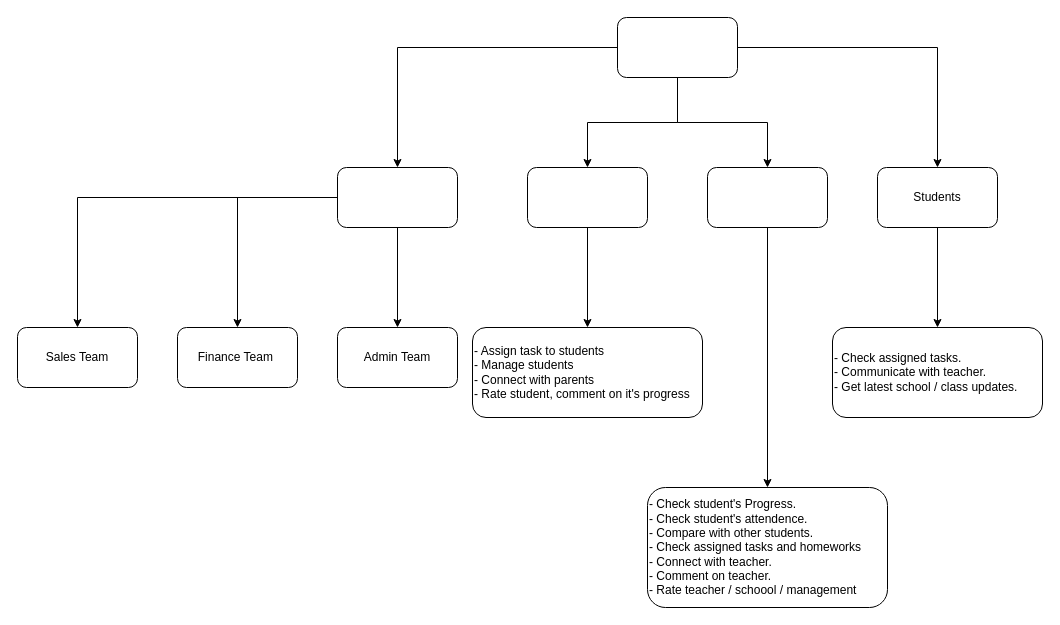
Some shapes in this 1060 by 625 pixel diagram are drawn without their labels. The centre of each missing label's shape, as x and y in pixels:
Management (Super Admin): point 397,197
Parents: point 767,197
School Portal: point 677,47
Teachers: point 587,197
